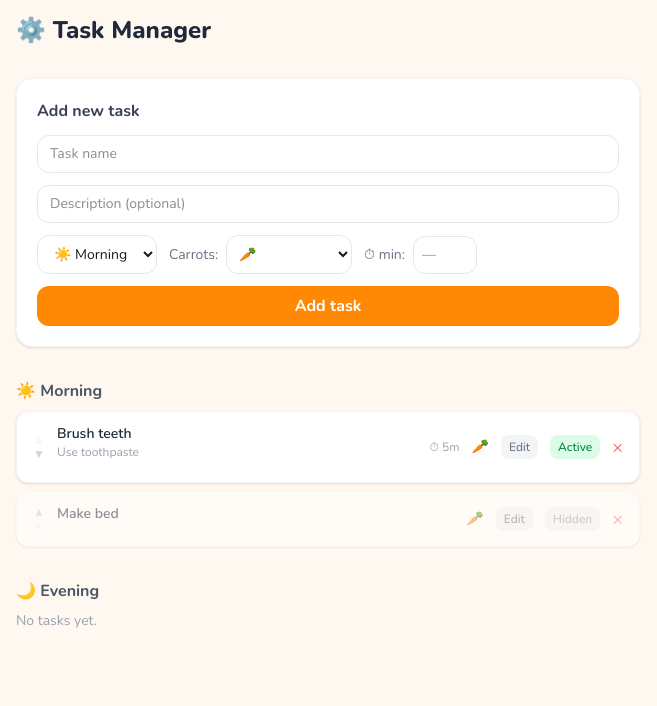
Test: TaskManager editing › sends null to clear a description and closes the form on success
This screenshot has width=657, height=706.
Expected: the text "Brush teeth" is shown, [57,424,132,443]
Click the button "Edit" in the row of "Use toothpaste". click: (520, 447)
box: [501,435,538,459]
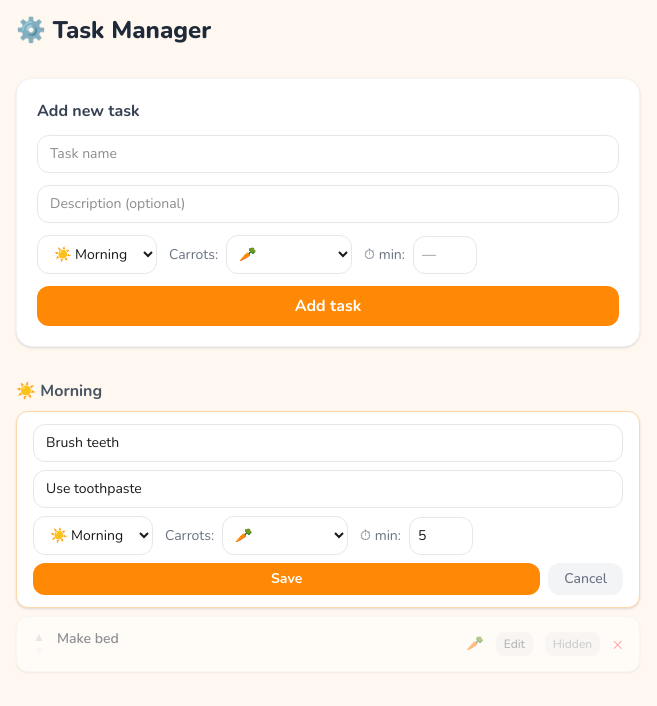
Clear the 2nd field showing "Use toothpaste". click: (328, 489)
box: [33,470,623,508]
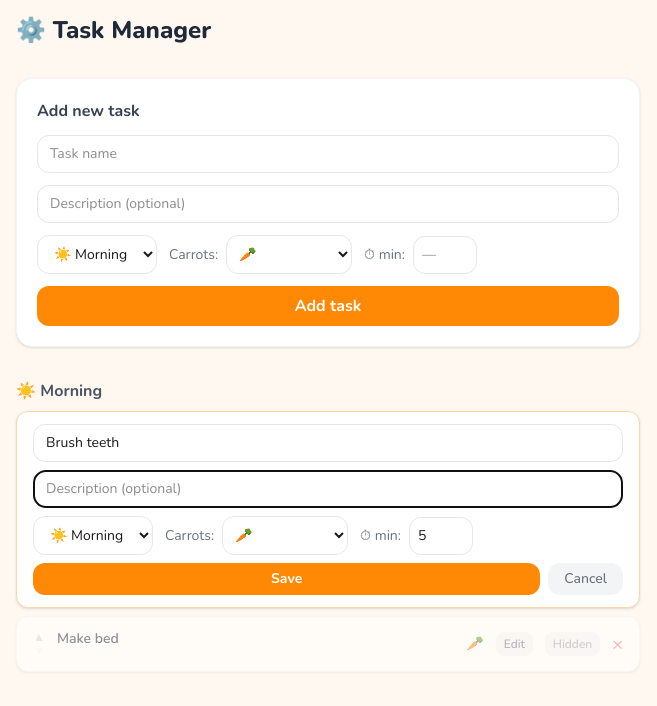
Click the button "Save". click: (287, 579)
box: [33,563,540,595]
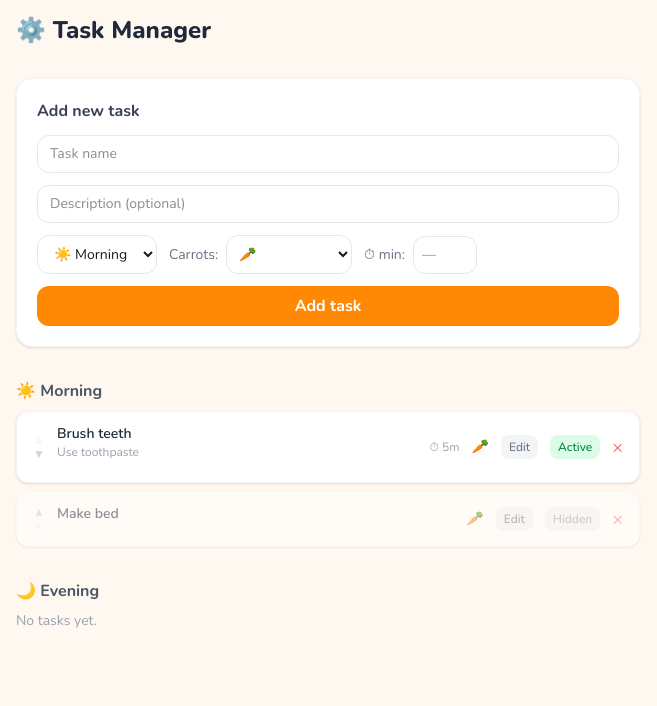
Expected: the button "Save" is gone
